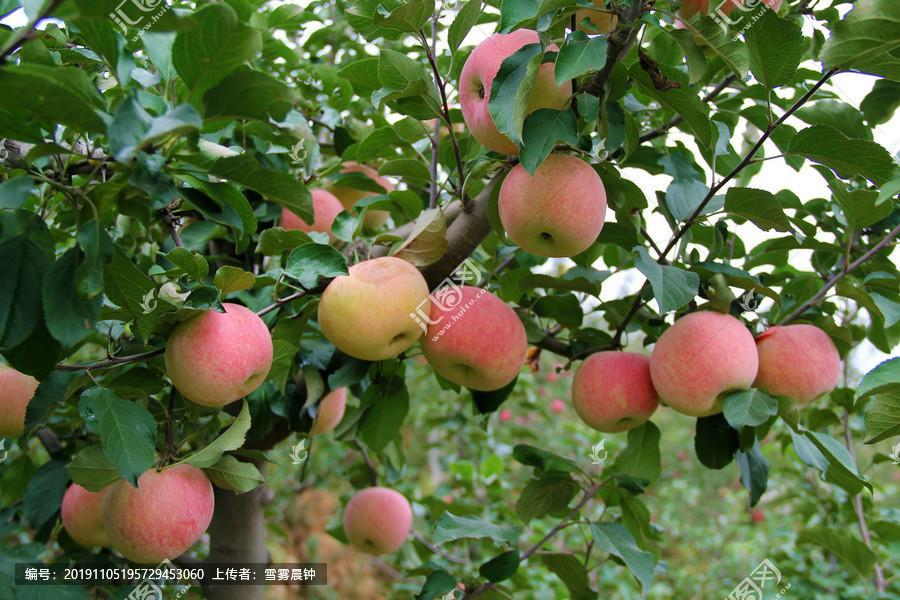apple: (460, 31, 573, 160), (419, 282, 528, 400), (493, 150, 605, 260), (316, 258, 430, 365), (650, 307, 757, 418), (95, 461, 213, 561), (165, 302, 271, 408), (568, 350, 658, 437), (753, 323, 840, 402), (342, 485, 413, 557), (58, 480, 118, 551), (518, 52, 570, 126), (277, 187, 342, 236), (1, 363, 38, 436)
